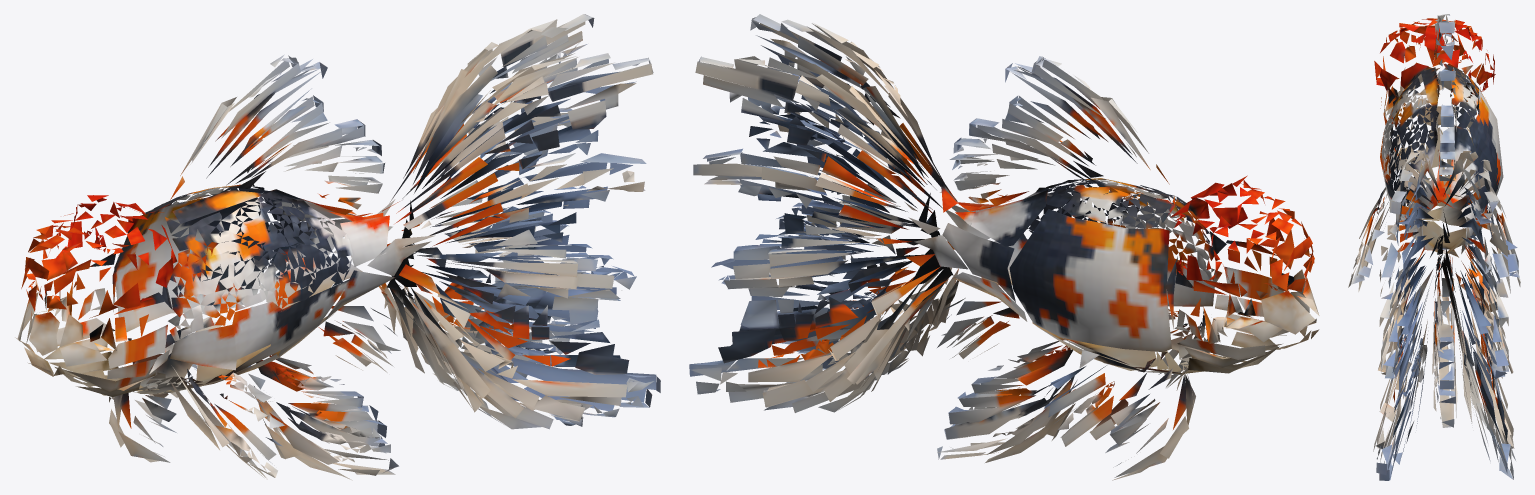
Rendered from fish_a.glb.
3 views of the same model, side by side, from view 1: azimuth 30°, elevation 25°; view 2: azimuth 150°, elevation 25°; view 3: azimuth 270°, elevation 25° (orthographic). The views are drawn at different scales.
Visible parts, largest first — view 1: node_0; view 2: node_0; view 3: node_0.
Boxes of the visible parts, left/top/right/bottom form: node_0: left=15, top=14, right=660, bottom=480; node_0: left=689, top=14, right=1319, bottom=480; node_0: left=1348, top=14, right=1520, bottom=480.
Size of the model in its own units: 1.04 by 0.722 by 0.3065.
Materials: 1 (1 with a texture image).
